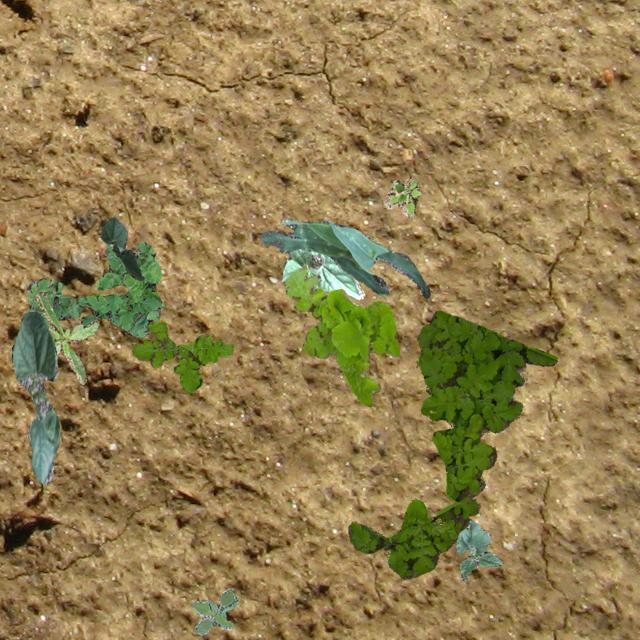crop: (260, 216, 428, 298), (11, 310, 58, 484), (281, 248, 363, 298), (454, 520, 502, 580), (100, 216, 144, 280)
weed: (348, 310, 556, 578), (282, 266, 398, 406), (27, 240, 164, 336), (130, 320, 232, 392), (34, 290, 98, 382), (190, 586, 237, 634), (382, 177, 420, 216)
